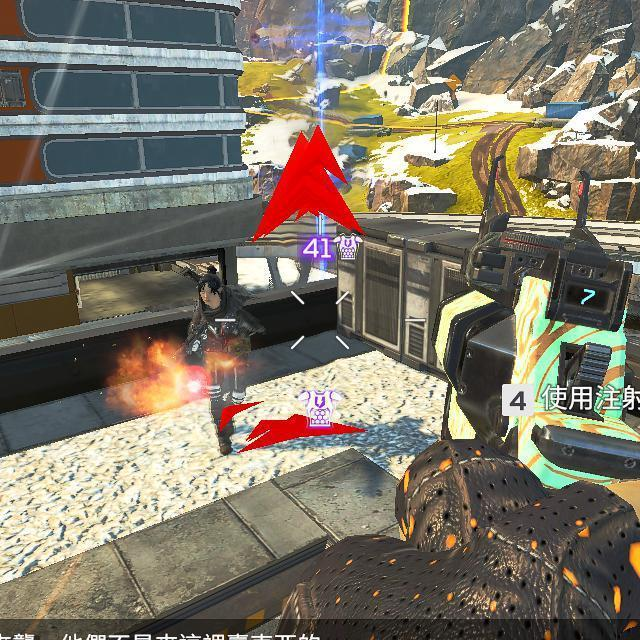avatar: (173, 266, 268, 455)
object: (179, 365, 211, 406)
